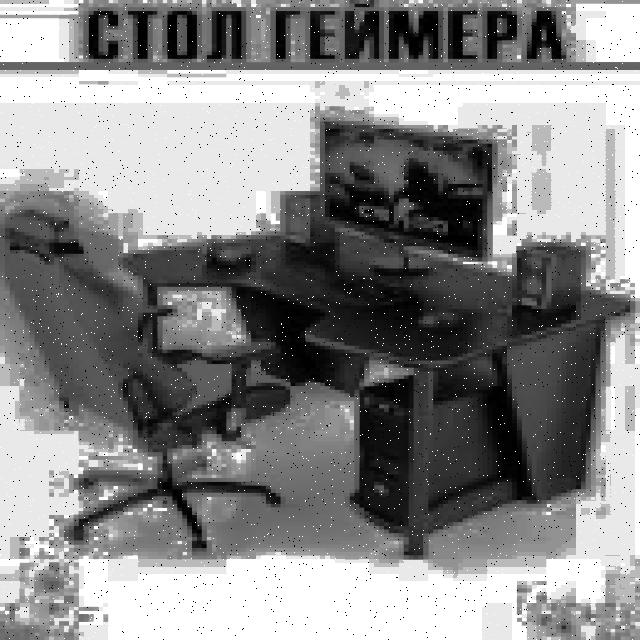book: (0, 202, 290, 551)
table: (113, 228, 630, 555)
